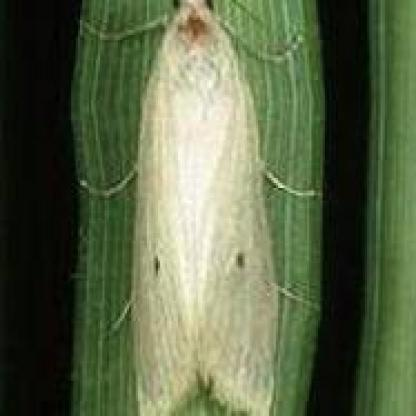stem-borer: (107, 0, 285, 416)
